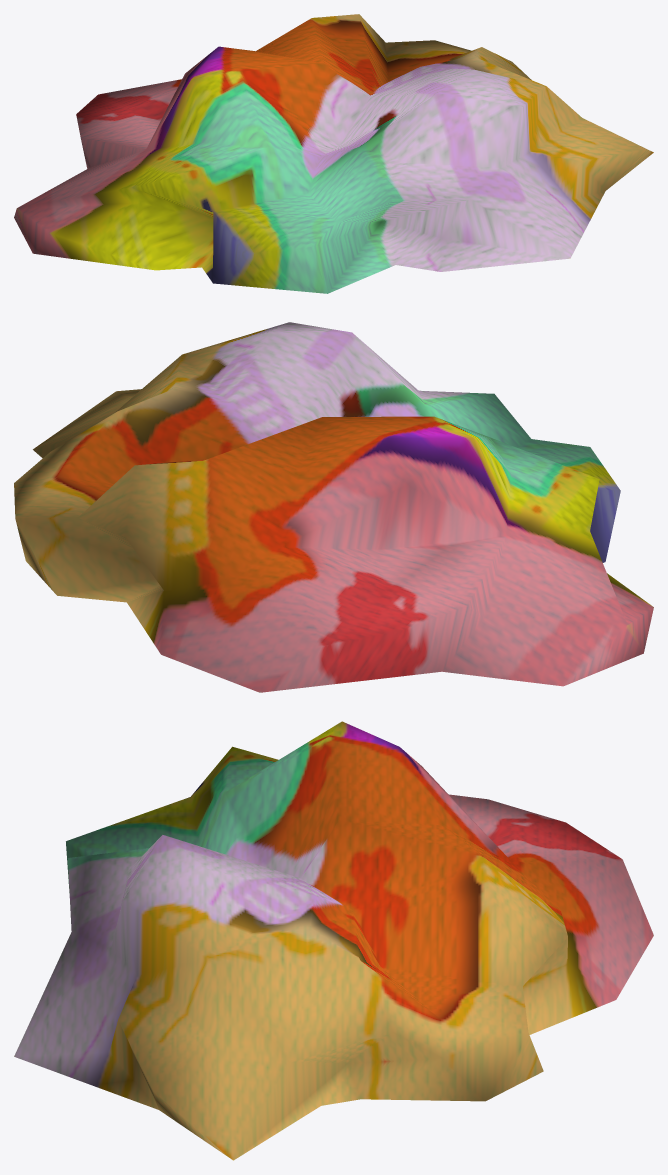
3 views of the same model, one above another, from view 1: azimuth 30°, elevation 25°; view 2: azimuth 150°, elevation 25°; view 3: azimuth 270°, elevation 25° (orthographic). The views are drawn at different scales.
Visible parts, largest first — view 1: DirtyClothes; view 2: DirtyClothes; view 3: DirtyClothes.
Part boxes in pixels (x1,y1,x2,y2): DirtyClothes: (14,14,653,293); DirtyClothes: (14,322,653,692); DirtyClothes: (14,721,653,1160).
Size of the model in its own units: 230 by 57.1 by 177.
Materials: 1 (1 with a texture image).
